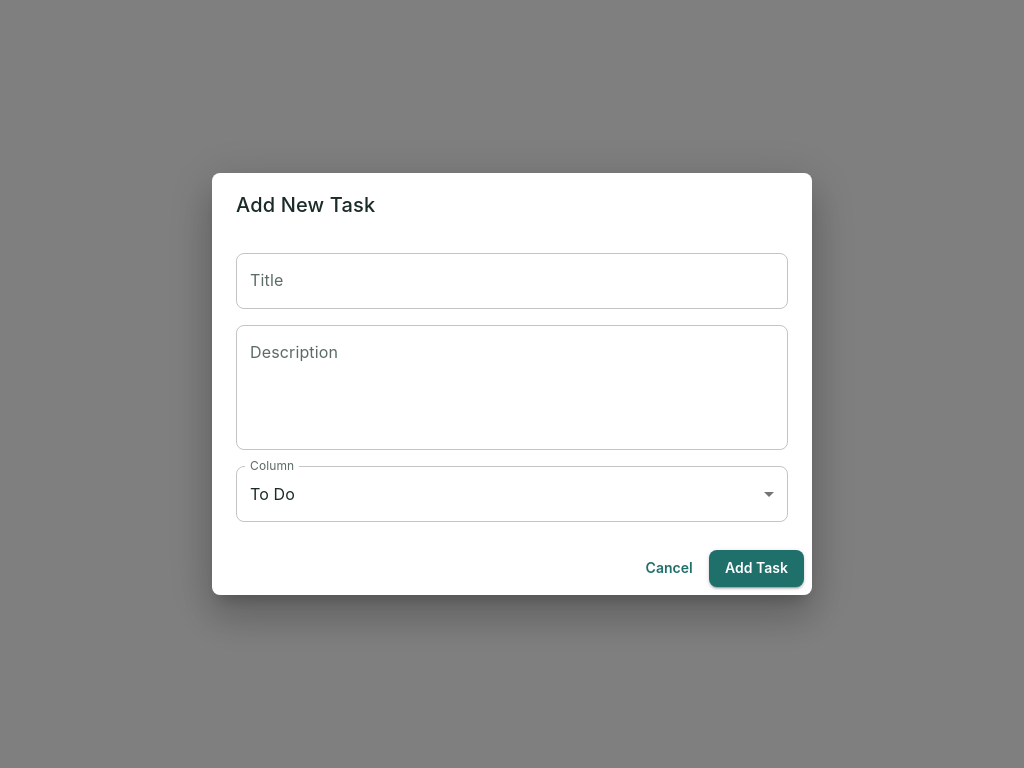
Test: AddTaskDialog › It shows validation errors when trying to submit an empty form
Click the button "Add Task": (757, 569) left=709, top=550, right=804, bottom=587
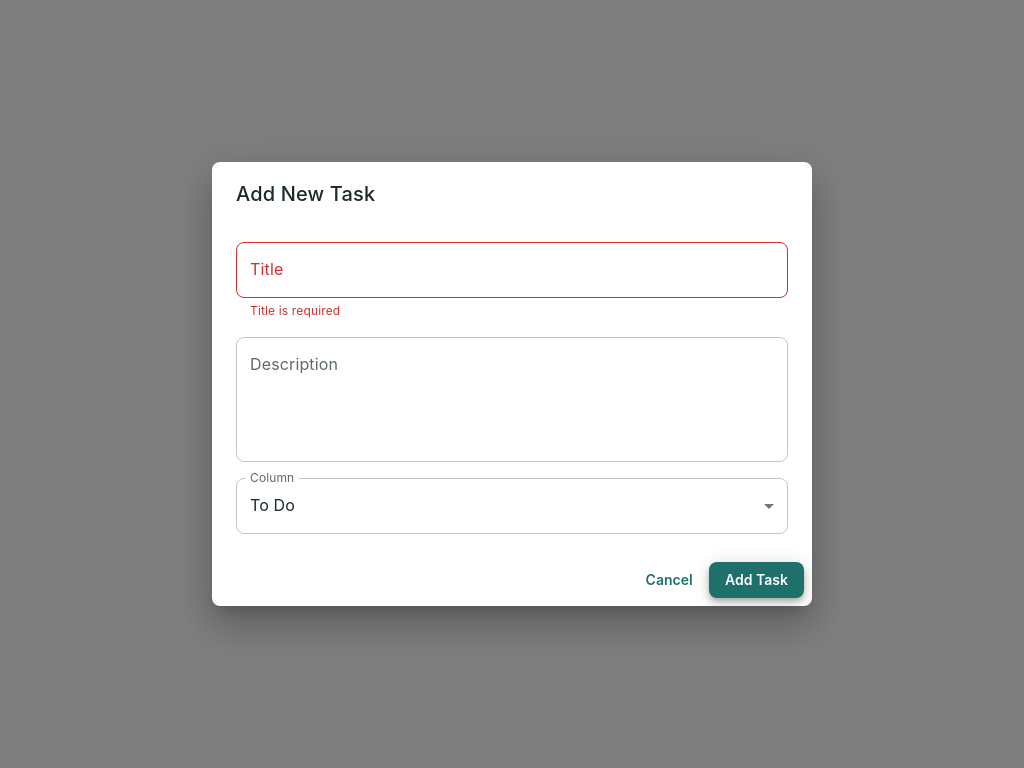
Expected: the text "Title is required" is shown, left=250, top=303, right=340, bottom=318
